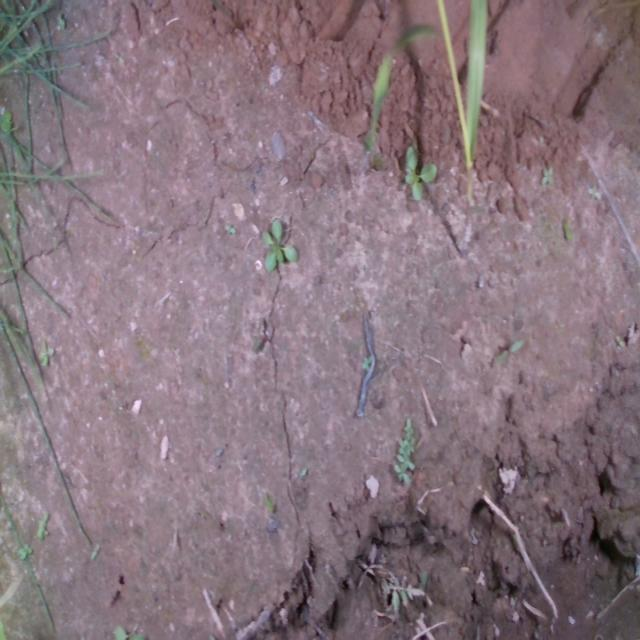weed: (540, 165, 554, 185), (222, 221, 236, 235)
